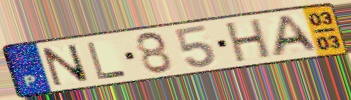5: (171, 23, 219, 70)
8: (135, 30, 174, 77)
A: (270, 13, 322, 59)
H: (224, 16, 273, 65)
L: (85, 41, 130, 81)
N: (39, 42, 93, 87)
